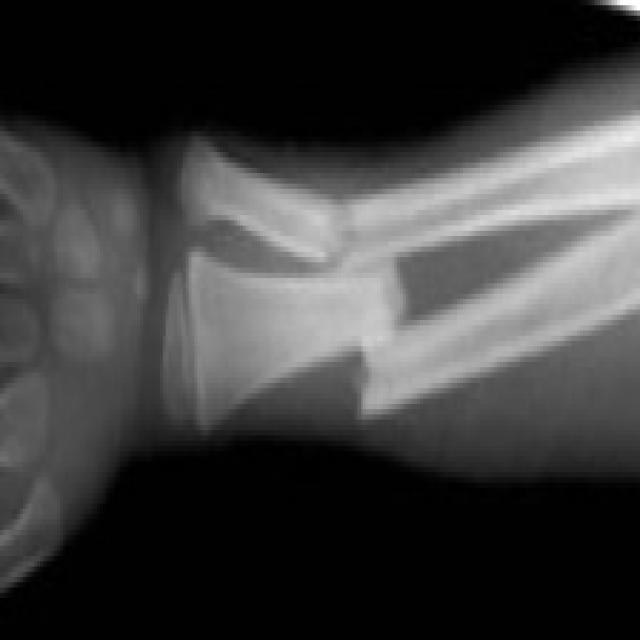Greenstick: (306, 188, 432, 464)
